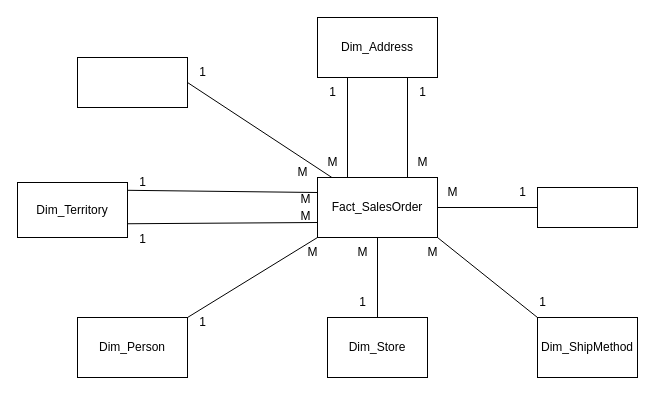
This 655x395 diagram has some shape labels left out. The box of each missing label's shape, as (x1, y1, x2, y2) in pixels:
Dim_CreditCard: (536, 186, 638, 228)
Dim_CurrencyRate: (76, 56, 188, 108)
